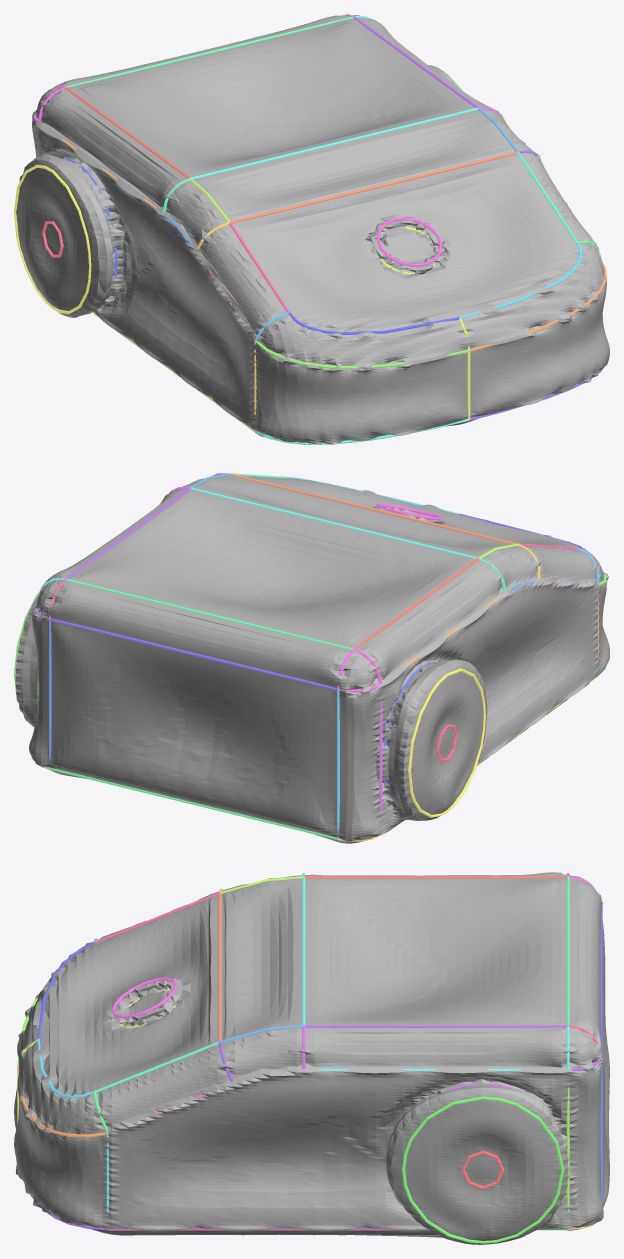
The model's file is onshape_vacuum.gltf.
3 views of the same model, one above another, from view 1: azimuth 30°, elevation 25°; view 2: azimuth 150°, elevation 25°; view 3: azimuth 270°, elevation 25° (orthographic). The views are drawn at different scales.
Size of the model in its own units: 0.6278 by 0.307 by 0.7603.
